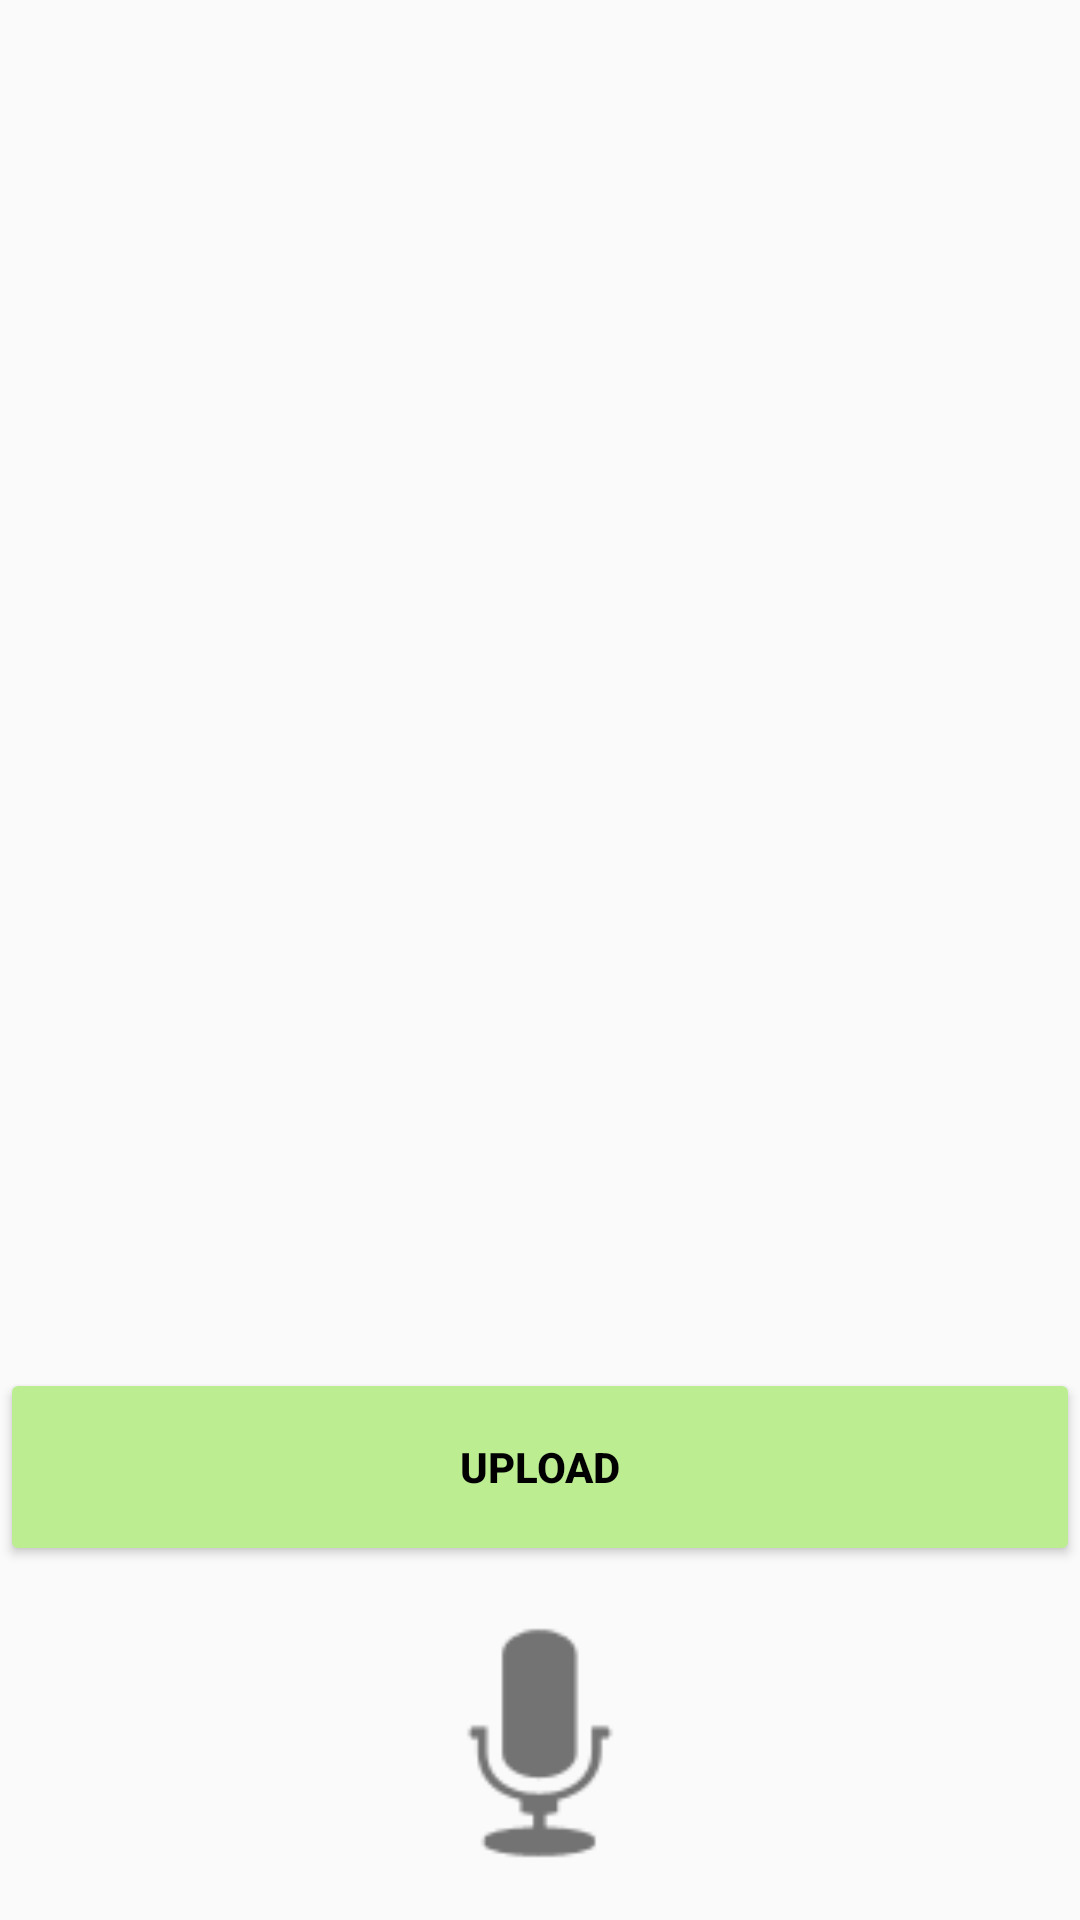

Point at icon controls on the screen. Image size 1080w x 1920h, points as (x,y).
speak now: (540,1743)
